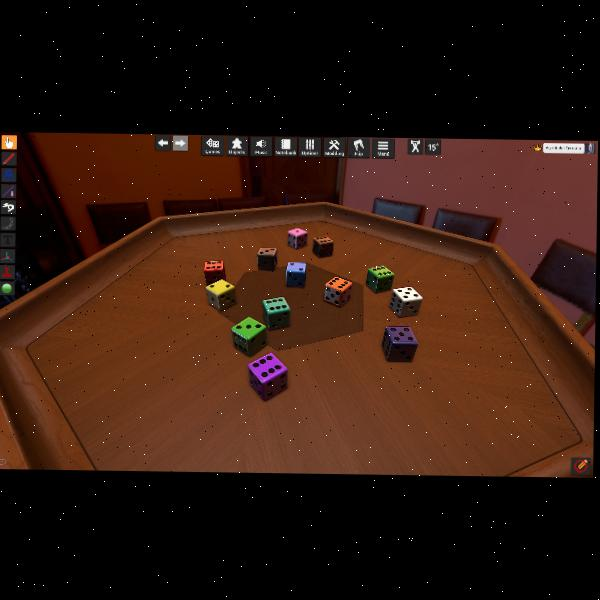d6: (246, 351, 289, 399), (230, 317, 266, 357), (383, 325, 419, 361), (205, 279, 236, 312), (391, 286, 422, 318), (262, 295, 291, 329), (324, 276, 352, 308), (365, 265, 391, 292), (285, 261, 307, 288), (203, 260, 225, 285), (286, 227, 307, 250), (257, 246, 277, 270), (312, 236, 333, 258)
